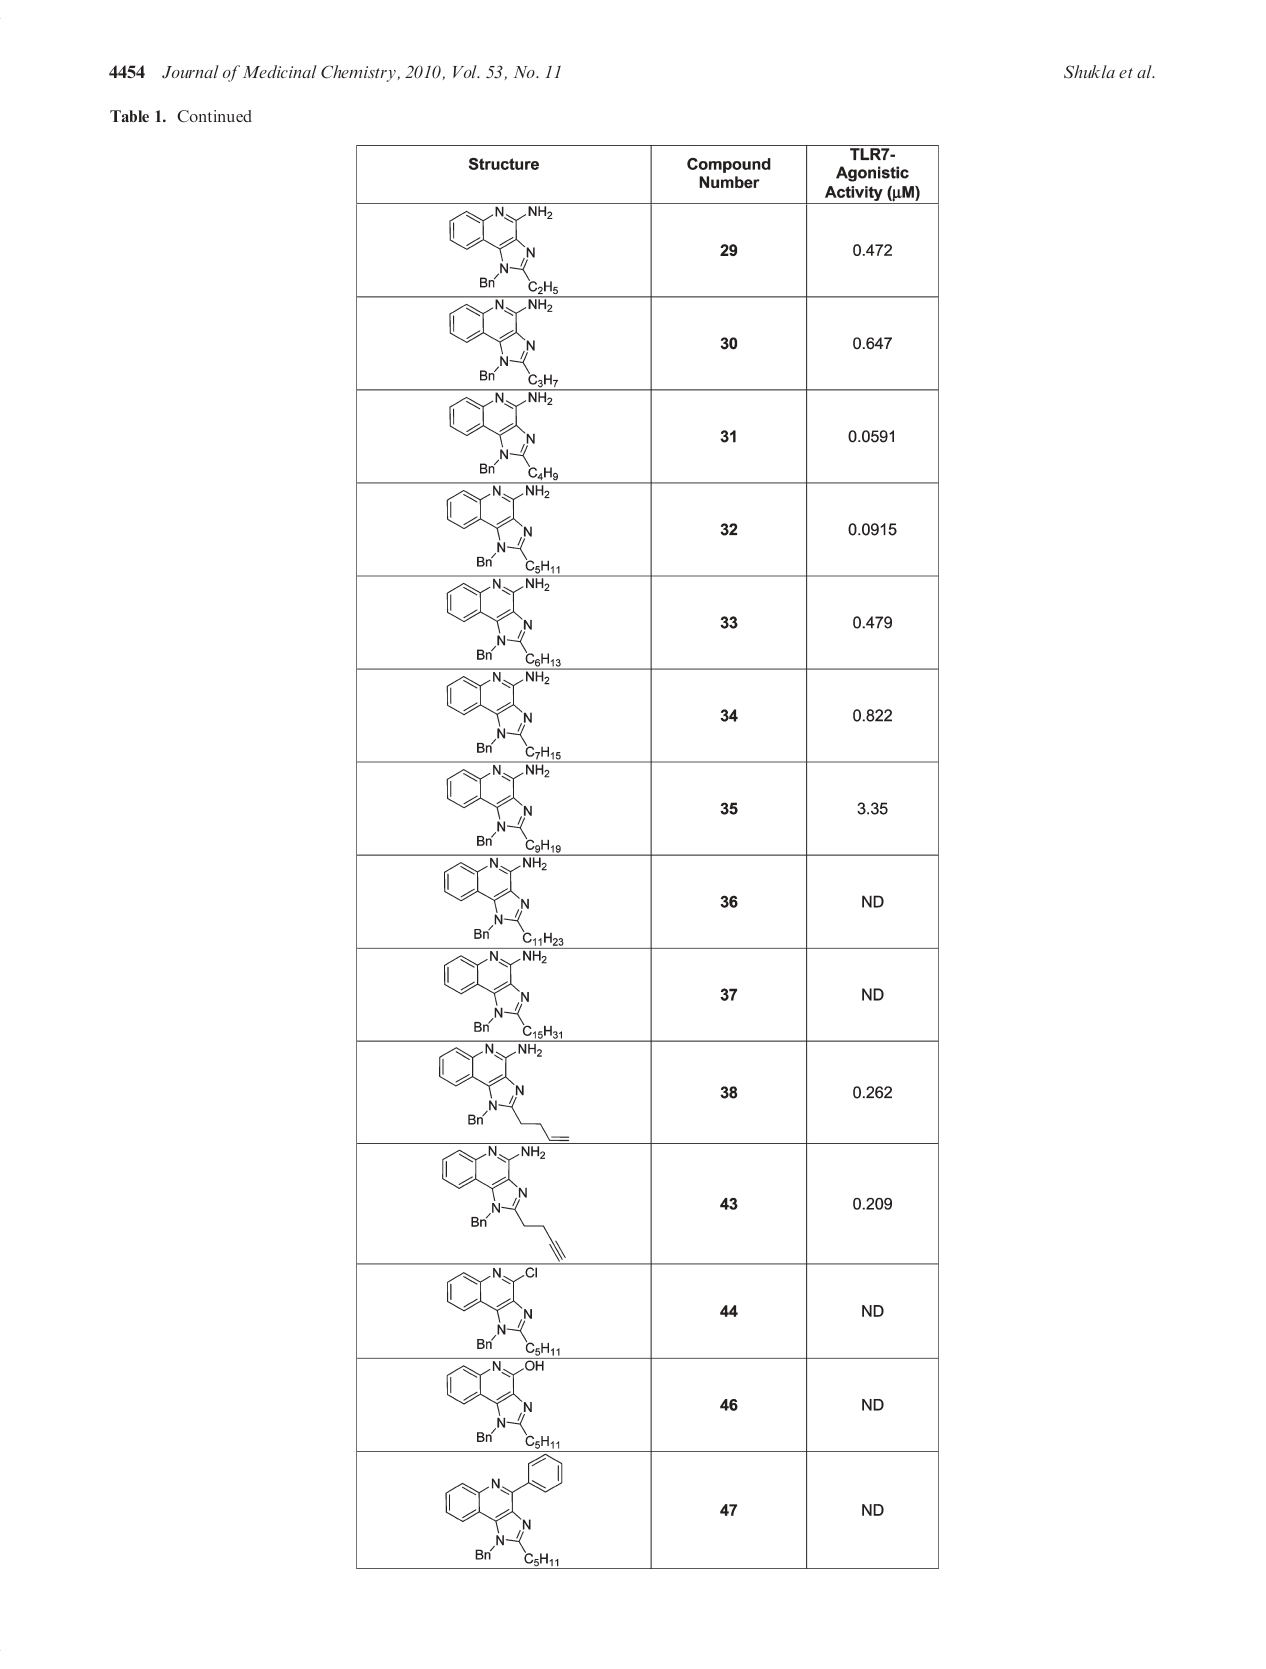exist_molecular: (442, 1145, 565, 1262), (444, 1454, 564, 1567), (438, 1043, 570, 1142), (443, 950, 565, 1041), (443, 856, 567, 947), (445, 483, 563, 575), (445, 1266, 563, 1356), (445, 577, 561, 668), (445, 670, 563, 759), (445, 763, 561, 852), (445, 1360, 561, 1450), (447, 298, 559, 387), (448, 205, 559, 294), (448, 392, 559, 480)
